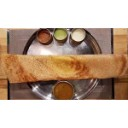dosa: (1, 51, 128, 82)
